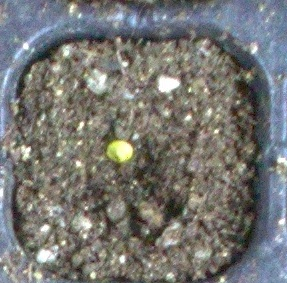chilli seed: (105, 140, 134, 162)
